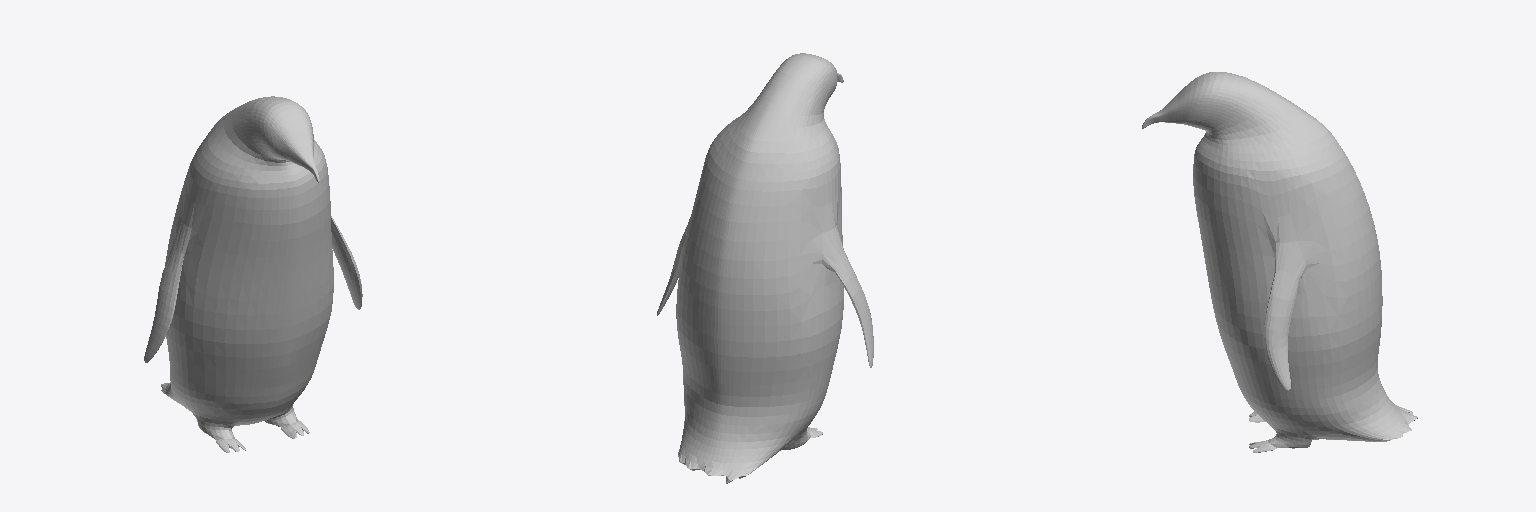
The model's file is PenguinBaseMesh2.obj.
3 views of the same model, side by side, from view 1: azimuth 30°, elevation 25°; view 2: azimuth 150°, elevation 25°; view 3: azimuth 270°, elevation 25° (orthographic).
Visible parts, largest first — view 1: Penguin_Cylinder; view 2: Penguin_Cylinder; view 3: Penguin_Cylinder.
Part boxes in pixels (x1,y1,x2,y2): Penguin_Cylinder: (144, 96, 362, 452); Penguin_Cylinder: (657, 53, 873, 483); Penguin_Cylinder: (1142, 72, 1417, 452).
Size of the model in its own units: 0.7502 by 1.19 by 0.8357.